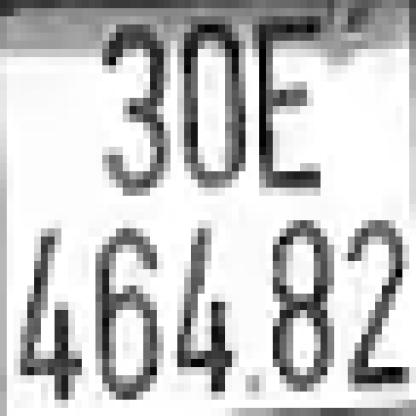0: (177, 24, 239, 196)
2: (341, 220, 402, 384)
3: (102, 24, 164, 196)
4: (20, 220, 82, 392), (177, 220, 225, 392)
6: (95, 228, 157, 392)
8: (266, 212, 327, 383)
E: (252, 16, 321, 196)
